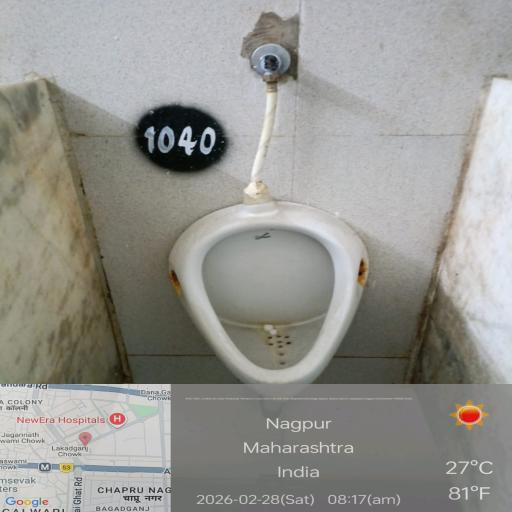clean_floor: (47, 15, 470, 173)
clean_urinal: (154, 193, 414, 423)
